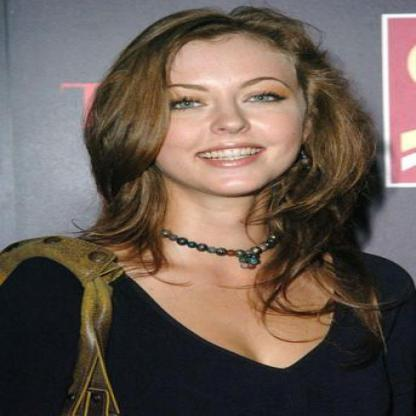long-hair: (69, 196, 386, 262)
